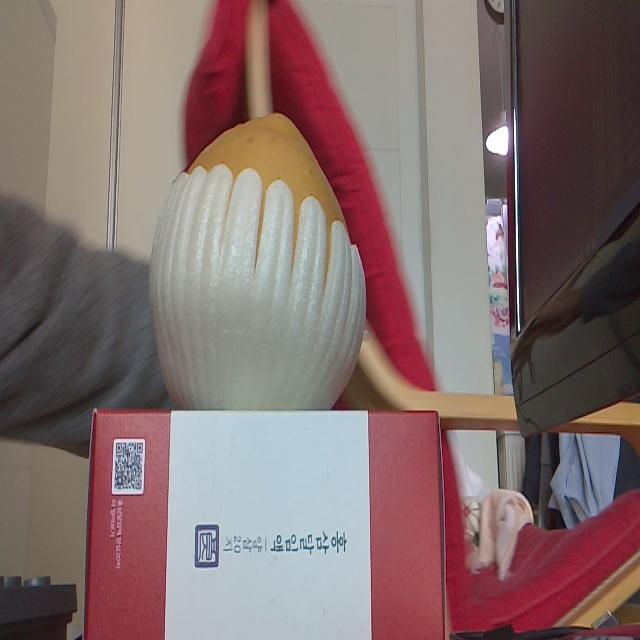pear: (166, 112, 355, 412)
